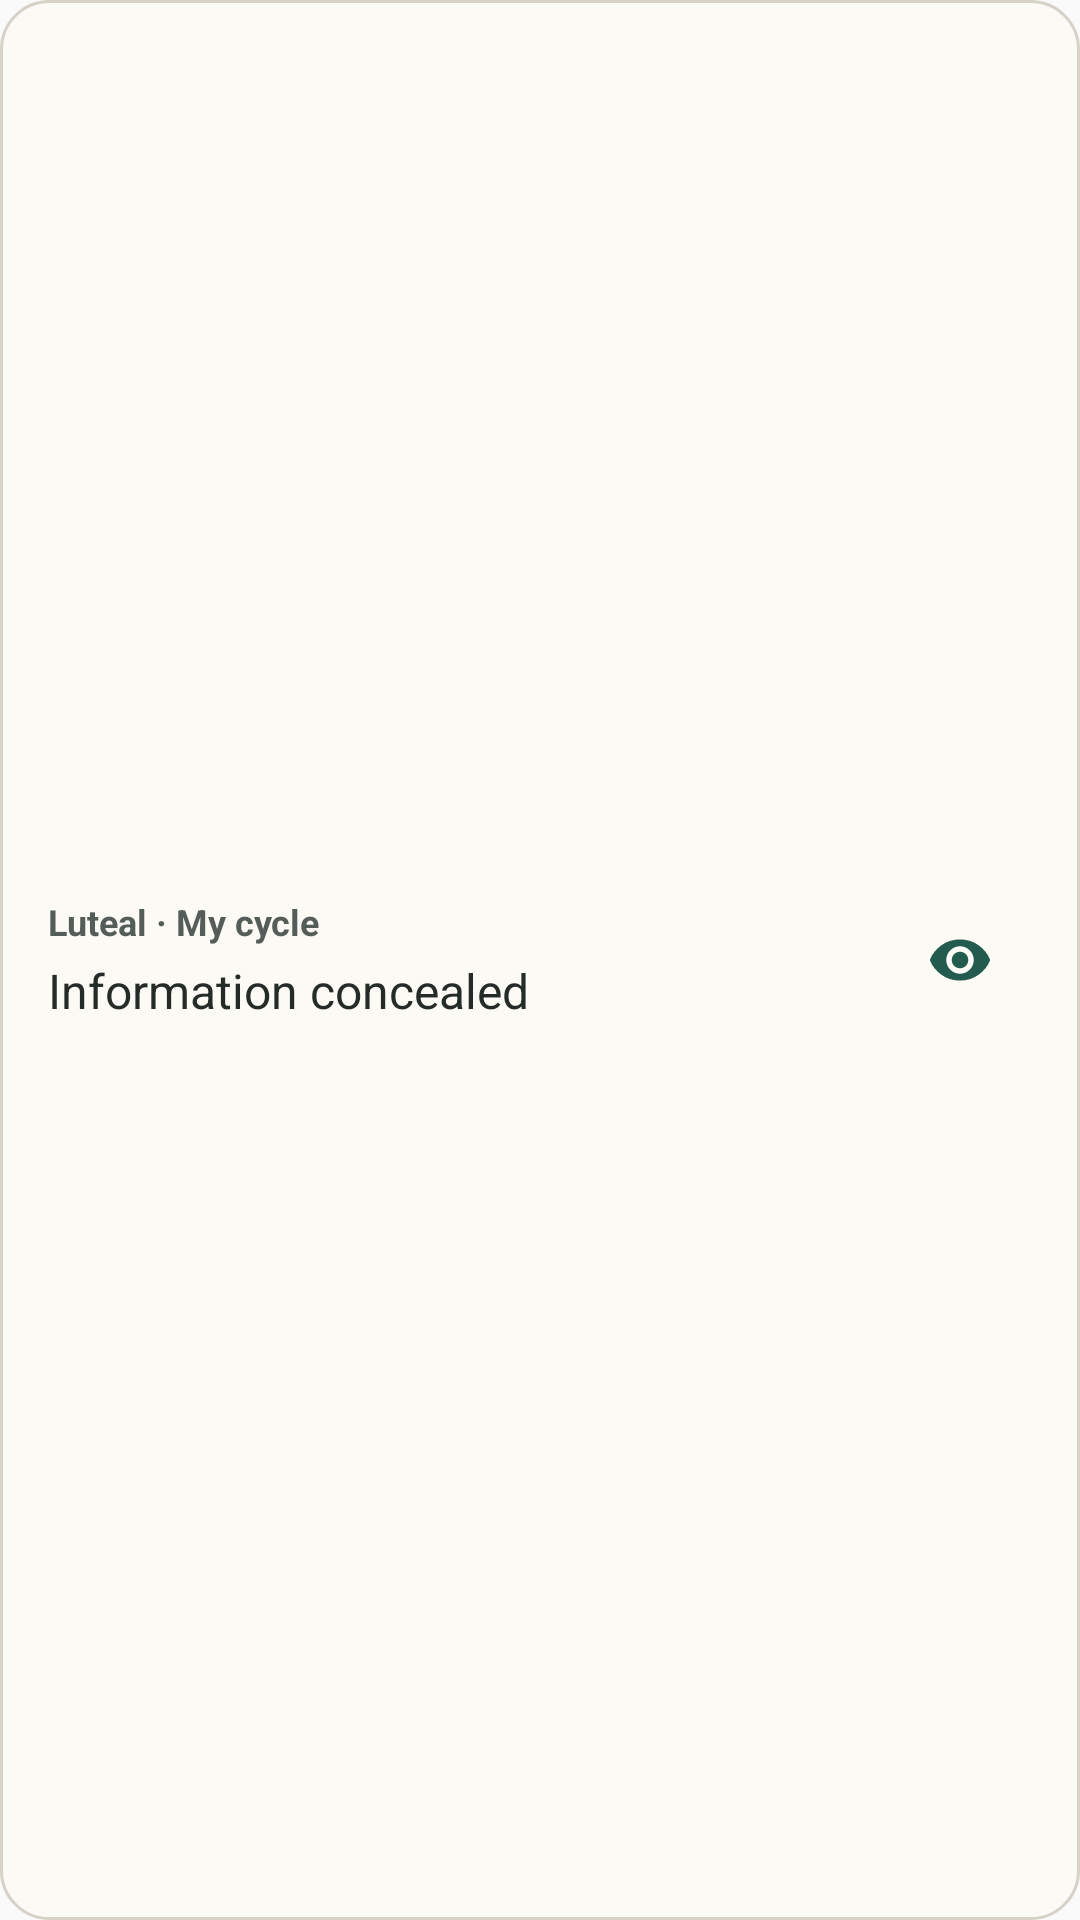

Icons on this 1080 × 1920 Android screen, each with the point to tap as (x,y):
Show widget information: (960,960)
